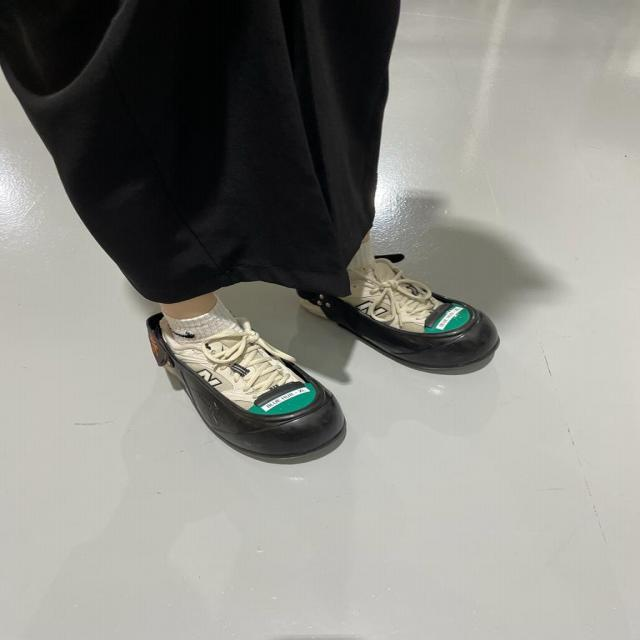shoes: (143, 309, 350, 467), (296, 256, 509, 386)
